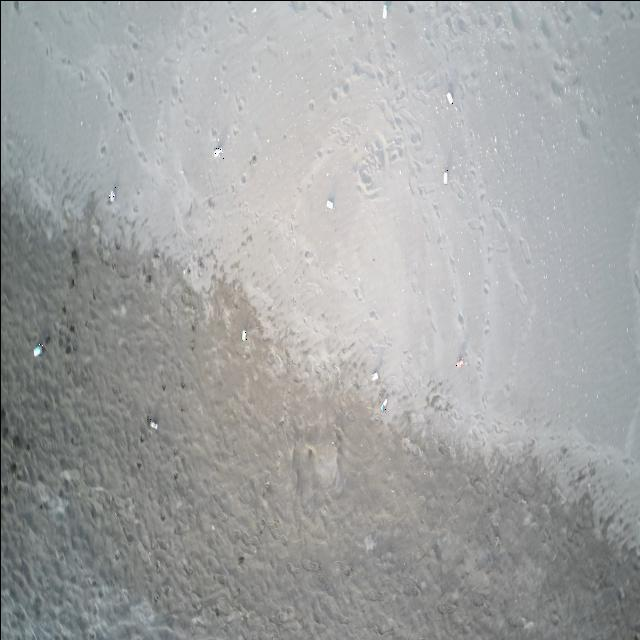Garbage: (108, 186, 116, 203), (32, 344, 44, 355), (148, 415, 156, 430), (380, 397, 387, 412), (455, 356, 464, 367), (382, 3, 387, 19), (213, 147, 221, 156), (443, 168, 447, 183), (447, 91, 452, 103), (241, 329, 246, 340), (326, 199, 332, 208), (371, 372, 377, 380), (252, 7, 256, 12)
